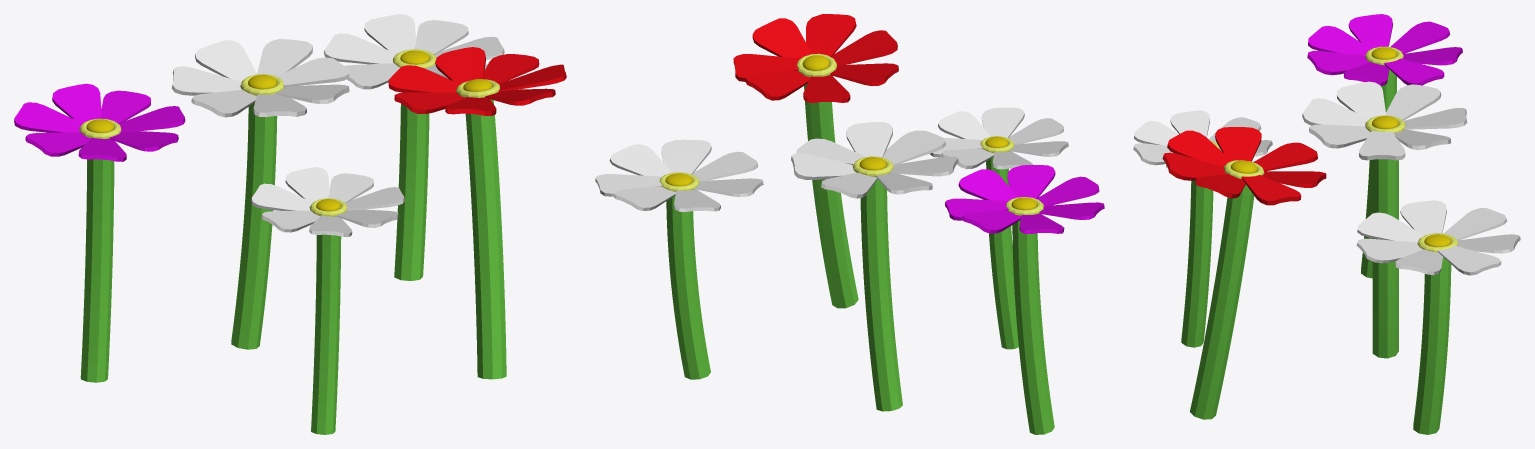
Rendered from Flores_1.fbx.
3 views of the same model, side by side, from view 1: azimuth 30°, elevation 25°; view 2: azimuth 150°, elevation 25°; view 3: azimuth 270°, elevation 25° (orthographic). The views are drawn at different scales.
Visible parts, largest first — view 1: Cylinder, Cylinder.001, Cylinder.003, Cylinder.002, Cylinder.004; view 2: Cylinder.001, Cylinder, Cylinder.004, Cylinder.003, Cylinder.002; view 3: Cylinder.001, Cylinder.004, Cylinder, Cylinder.003, Cylinder.002.
Boxes of the visible parts, x1,y1,x2,y2 form: Cylinder: (171, 39, 349, 349); Cylinder.001: (388, 47, 566, 379); Cylinder.003: (14, 83, 185, 382); Cylinder.002: (251, 167, 404, 434); Cylinder.004: (324, 14, 504, 280); Cylinder.001: (733, 14, 898, 308); Cylinder: (791, 122, 958, 411); Cylinder.004: (595, 139, 763, 379); Cylinder.003: (945, 165, 1104, 434); Cylinder.002: (930, 107, 1068, 349); Cylinder.001: (1162, 127, 1326, 419); Cylinder.004: (1356, 200, 1520, 434); Cylinder: (1302, 81, 1467, 358); Cylinder.003: (1307, 14, 1462, 278); Cylinder.002: (1133, 110, 1272, 347).
Size of the model in its own units: 2856 by 2228 by 3874.
